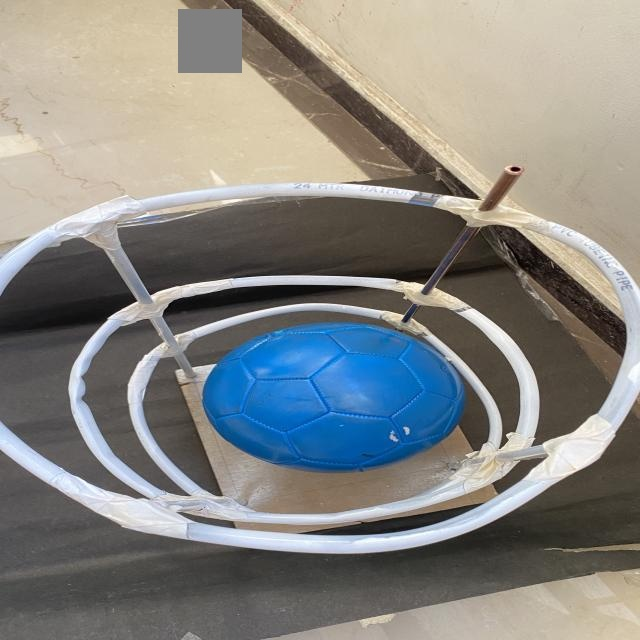blue_ball: (198, 316, 469, 466)
silo: (6, 175, 640, 547)
